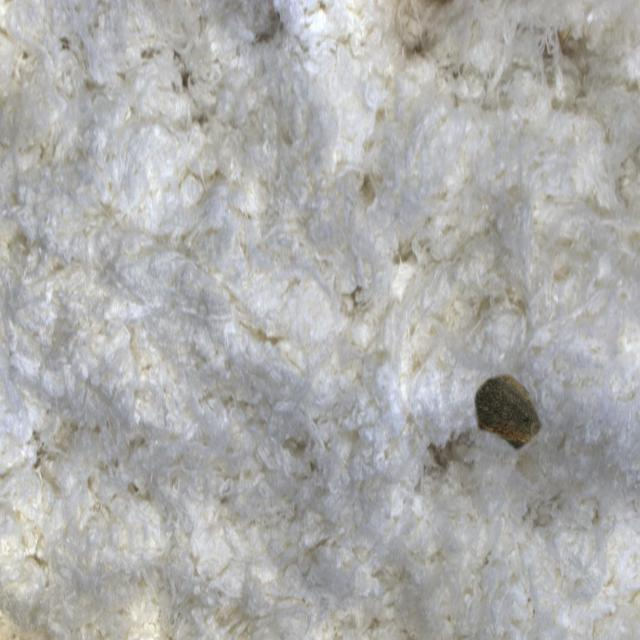dust: (456, 334, 577, 499)
